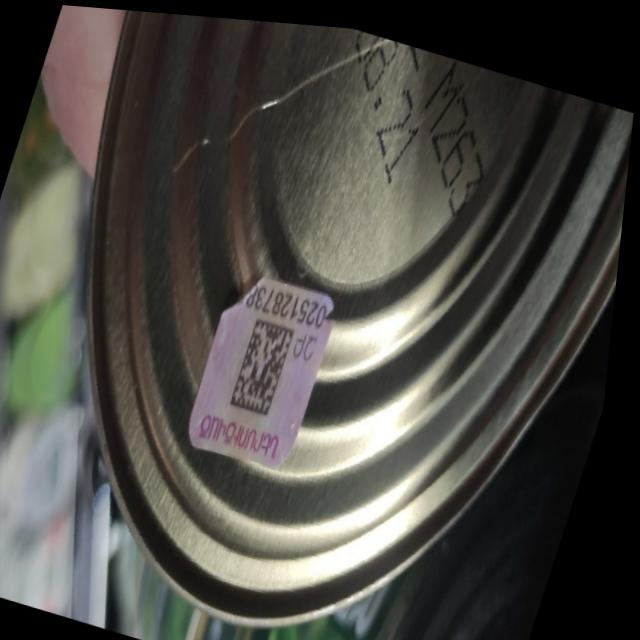datamatrix: (234, 309, 305, 416)
